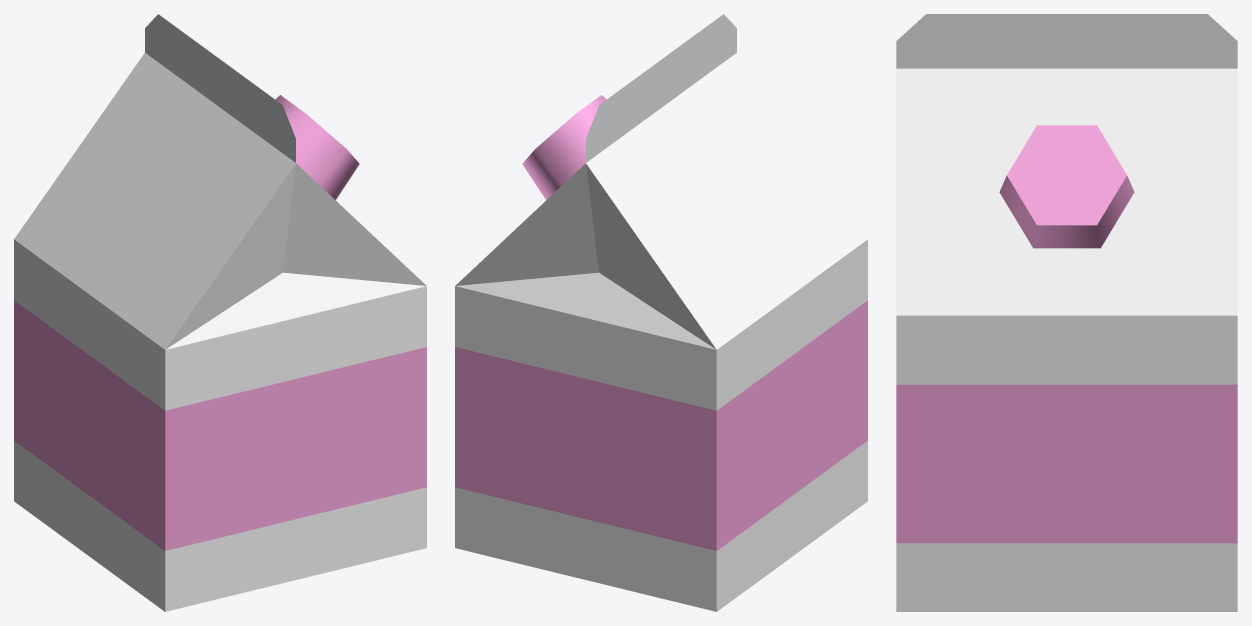
The model's file is dechet-lait.glb.
3 renders of one model, left to right at view 1: azimuth 30°, elevation 25°; view 2: azimuth 150°, elevation 25°; view 3: azimuth 270°, elevation 25°, orthographic. The views are drawn at different scales.
Visible parts, largest first — view 1: cartonSmall; view 2: cartonSmall; view 3: cartonSmall.
Boxes of the visible parts, left/top/right/bottom form: cartonSmall: left=14, top=14, right=426, bottom=611; cartonSmall: left=455, top=14, right=867, bottom=611; cartonSmall: left=896, top=14, right=1237, bottom=611.
Bounding box in the file's own units: 0.23 × 0.3905 × 0.23.
